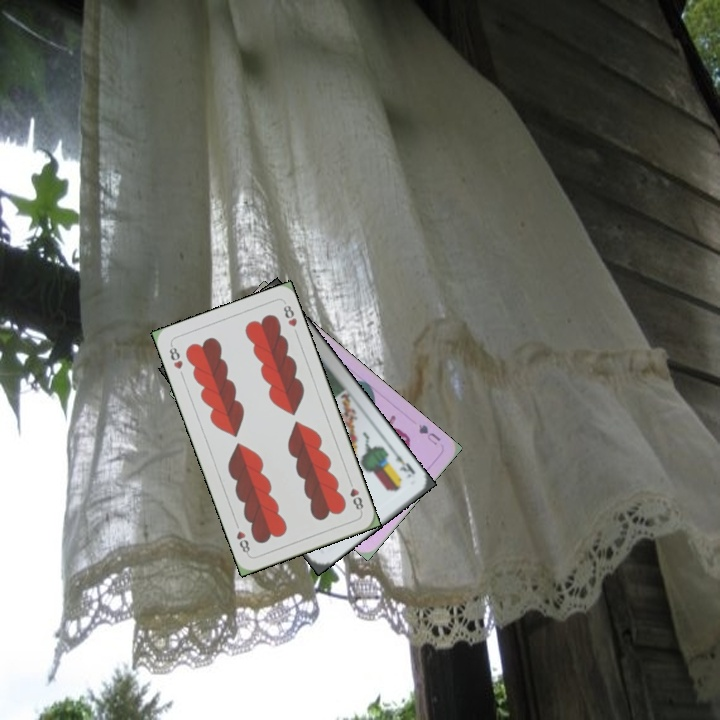EK: (388, 445, 418, 481)
GU: (414, 420, 443, 448)
H8: (345, 476, 366, 515), (165, 340, 185, 372)
